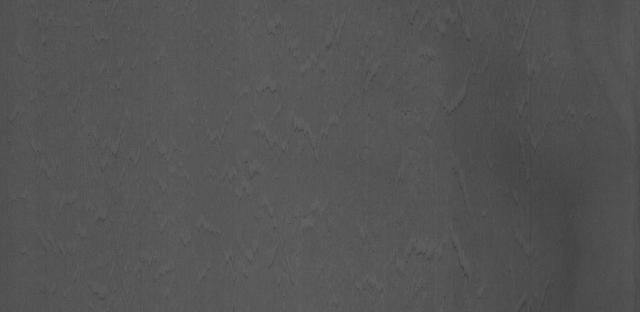silk_spot: (233, 23, 485, 268)
